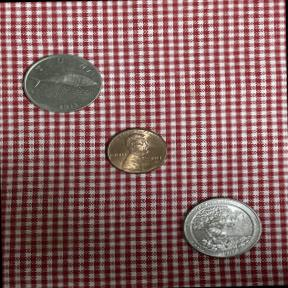Croatia-2Kune-B: (18, 50, 109, 120)
US-1cent-B: (101, 124, 174, 178)
US-25cent-B: (175, 194, 266, 264)
